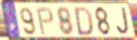8: (57, 6, 75, 37), (95, 6, 112, 37)
9: (19, 7, 37, 36)
D: (74, 6, 94, 37)
J: (116, 7, 130, 36)
P: (36, 7, 55, 37)
